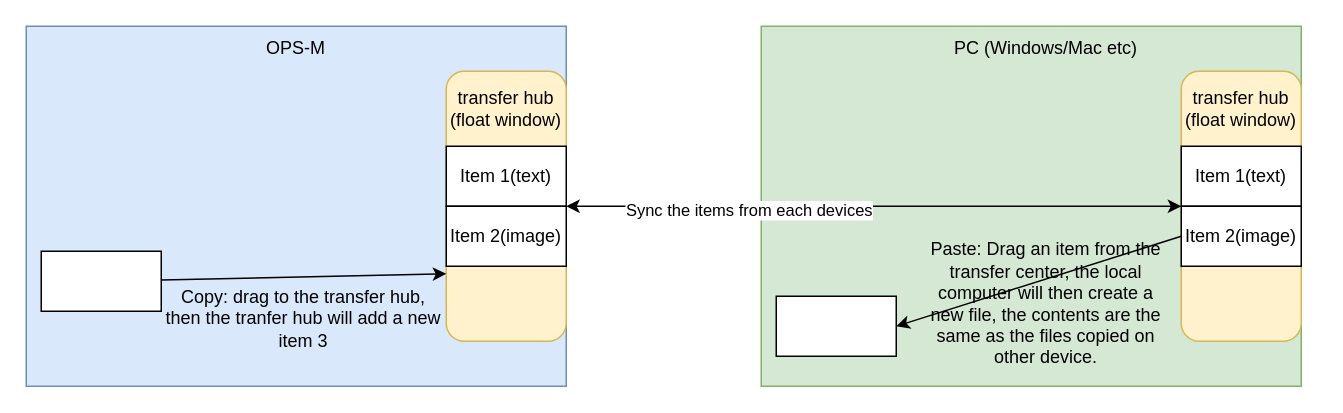
This 1343x413 diagram has some shape labels left out. Each missing label, with the centre of its shape:
"file/text" belongs at point (100, 280).
"new file" belongs at point (835, 325).
